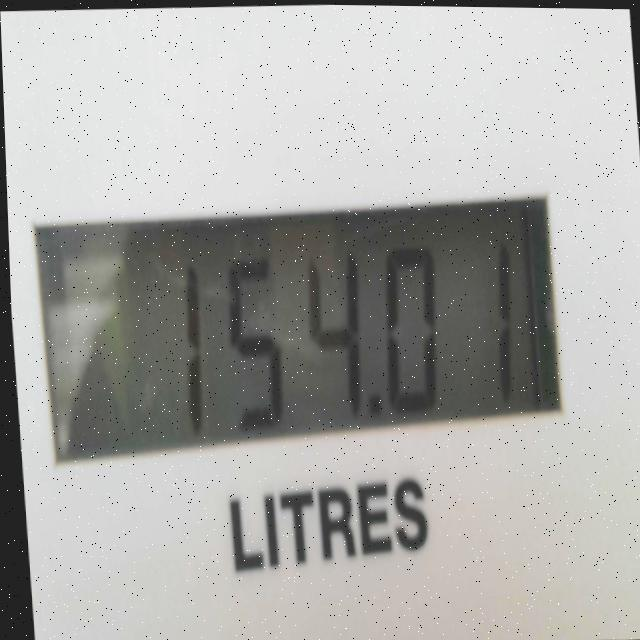.: (358, 379, 382, 429)
0: (370, 243, 447, 416)
1: (478, 240, 535, 416), (159, 261, 216, 436)
4: (289, 243, 370, 422)
5: (216, 250, 290, 435)
